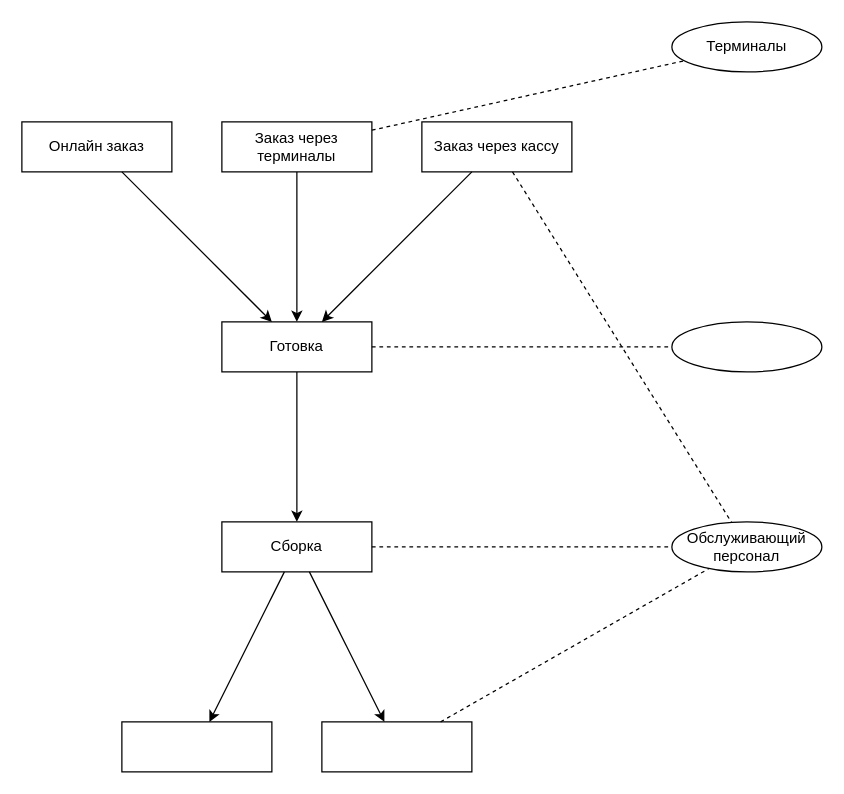
The diagram is 844 pixels wide and 794 high, and some of its shapes have lost their labels. Each missing label, with the centre of its shape:
"Выдать заказ" goes at (x=196, y=746).
"Повара" goes at (x=746, y=346).
"Принести заказ" goes at (x=396, y=746).
